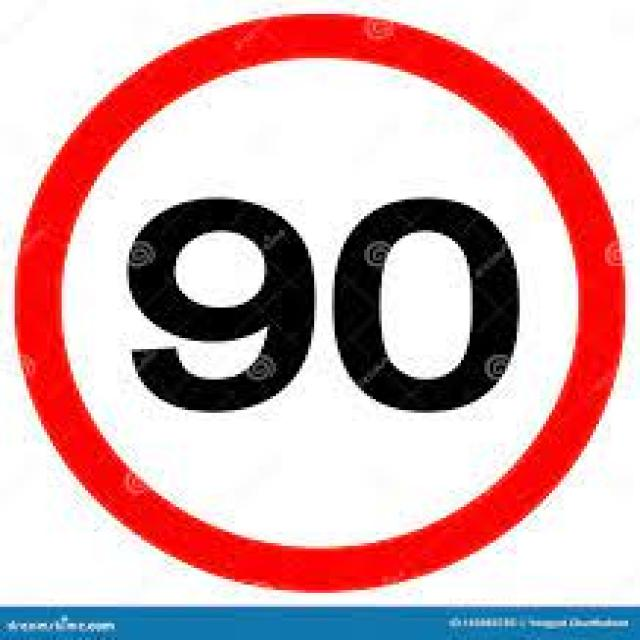SPEED_LIMIT_90: (6, 7, 632, 596)
